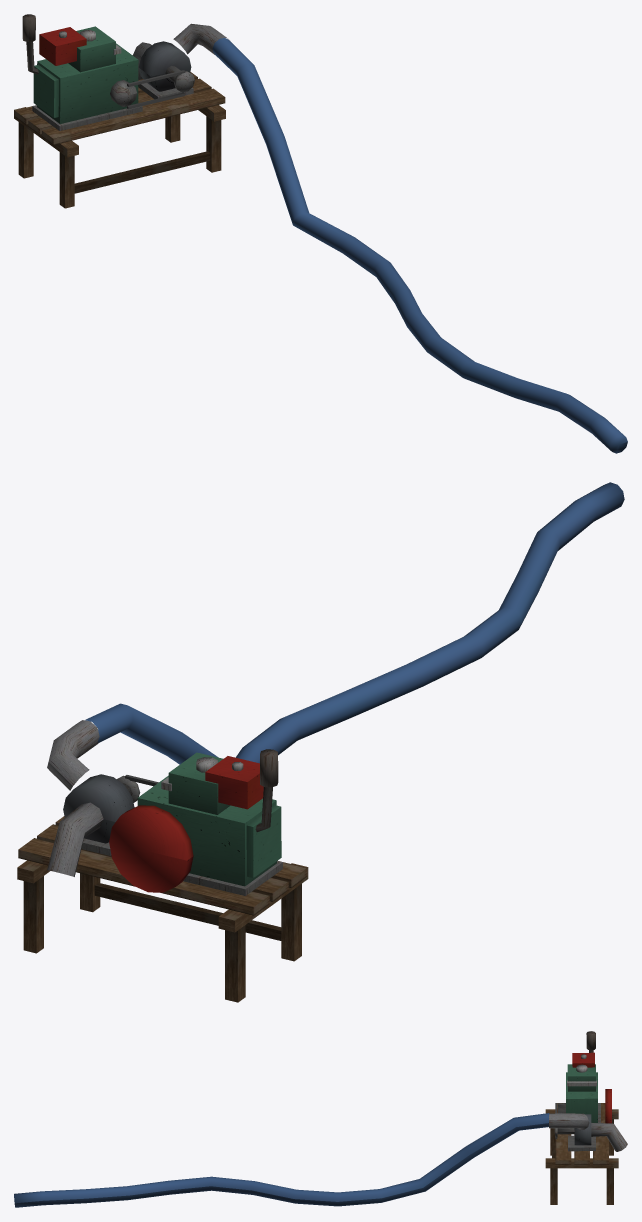
Rendered from pump.glb.
3 views of the same model, one above another, from view 1: azimuth 30°, elevation 25°; view 2: azimuth 150°, elevation 25°; view 3: azimuth 270°, elevation 25° (orthographic). The views are drawn at different scales.
Visible parts, largest first — view 1: pump_engine_mesh, pump_pipe, pump_stand; view 2: pump_engine_mesh, pump_pipe, pump_stand; view 3: pump_pipe, pump_engine_mesh, pump_stand.
Boxes of the visible parts, x1,y1,x2,y2 form: pump_engine_mesh: (22,14,227,130); pump_pipe: (212,37,627,453); pump_stand: (14,72,225,208); pump_engine_mesh: (47,720,282,895); pump_pipe: (85,482,624,764); pump_stand: (17,816,308,1002); pump_pipe: (14,1113,549,1207); pump_engine_mesh: (549,1031,627,1151); pump_stand: (545,1103,618,1204).
Size of the model in its own units: 1.56 by 1.38 by 6.55.
5 materials, 4 textured.
